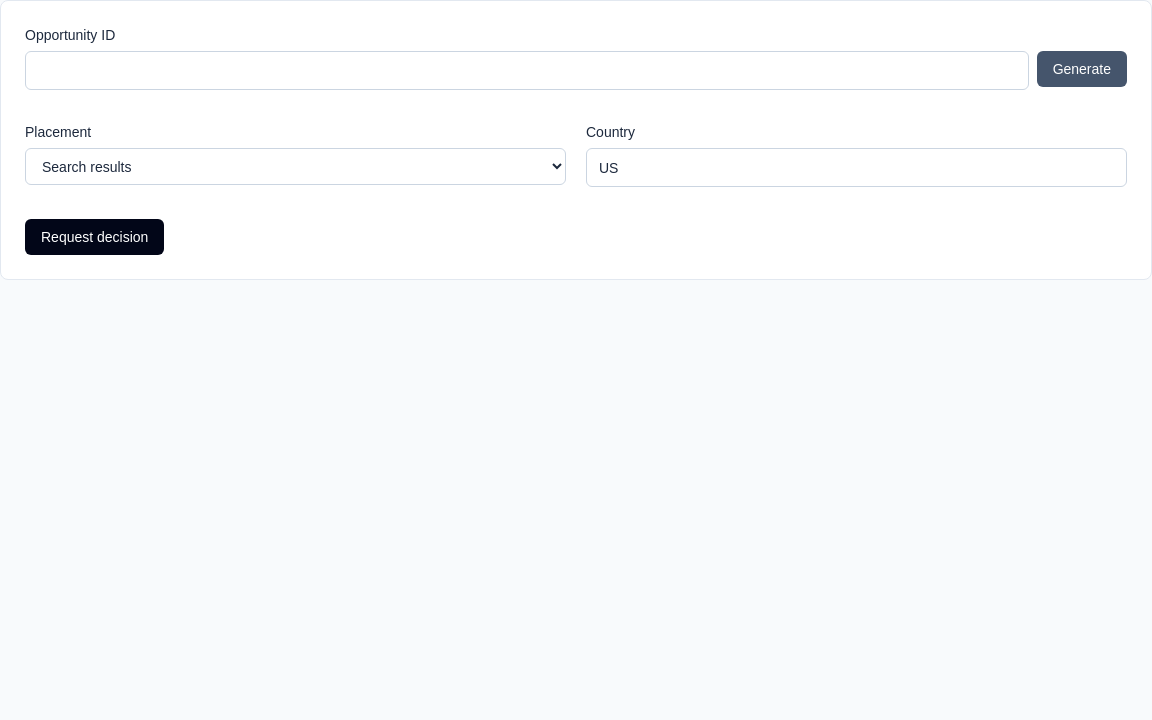
Test: DecisionLab › renders a fill and normalized values
Type "51000000-0000-4000-8000-000000000001" into the field labelled "Opportunity ID" at (527, 70), box x1=25 y1=51 x2=1029 y2=90
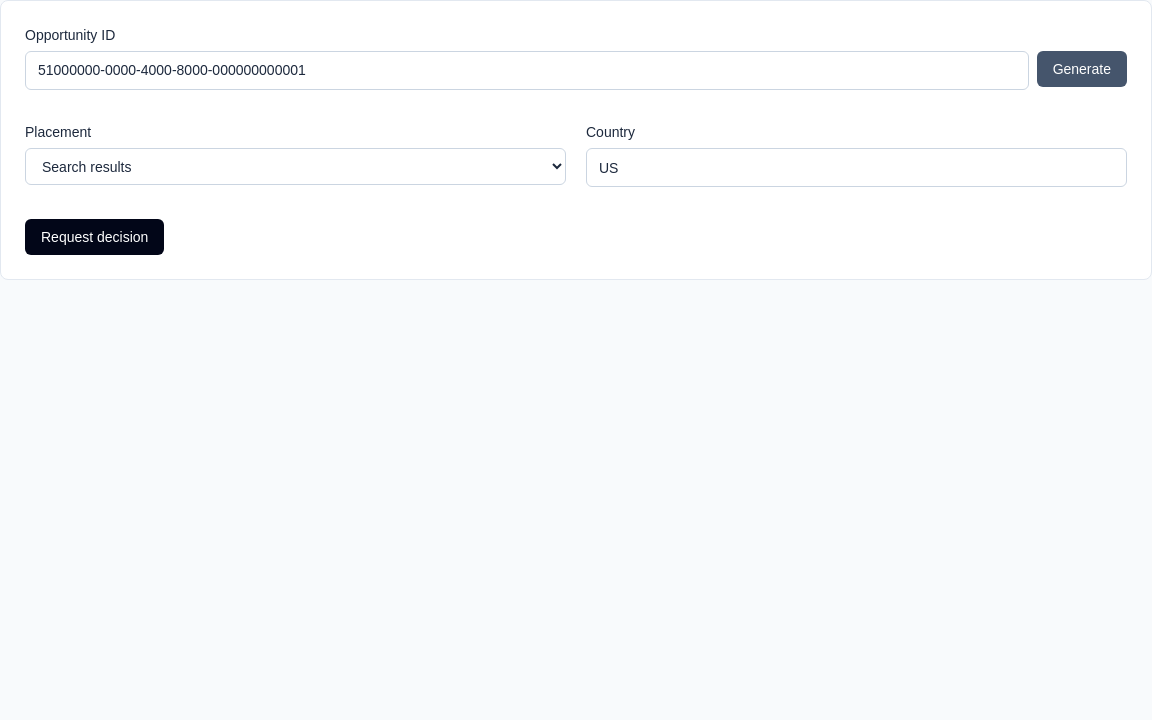
Replace the text in the field labelled "Country" with "us" at (856, 168), box x1=586 y1=148 x2=1127 y2=187
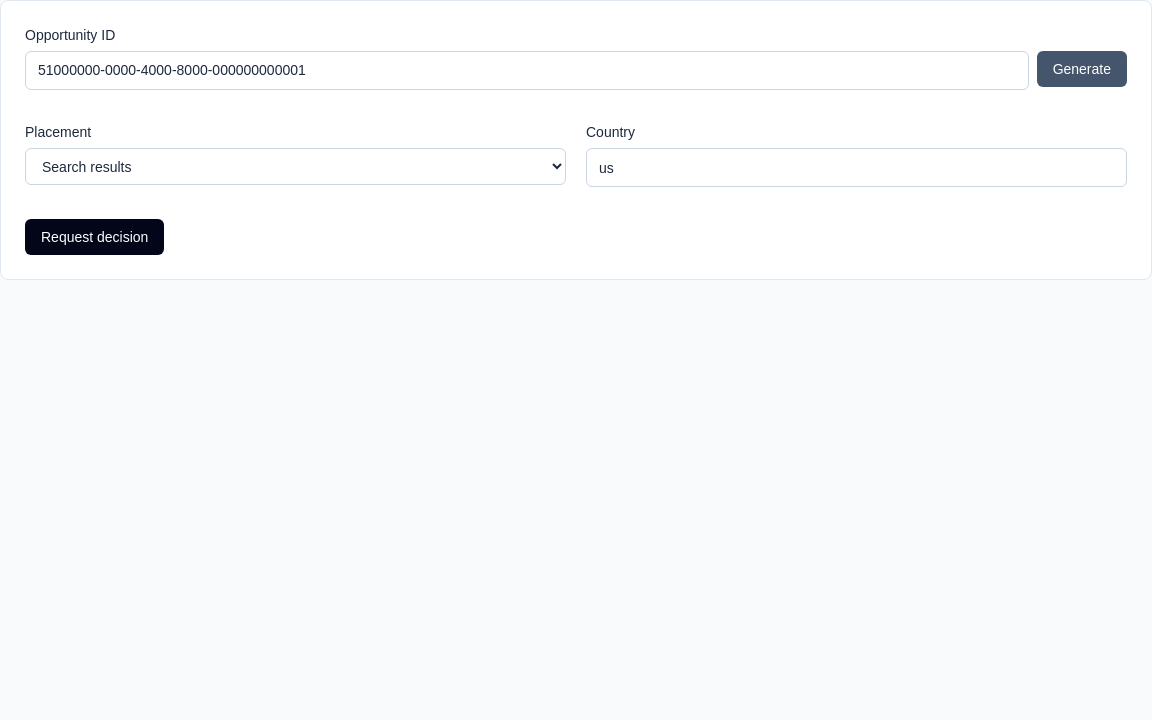
Click the button "Request decision" at (95, 237), box x1=25 y1=219 x2=164 y2=255
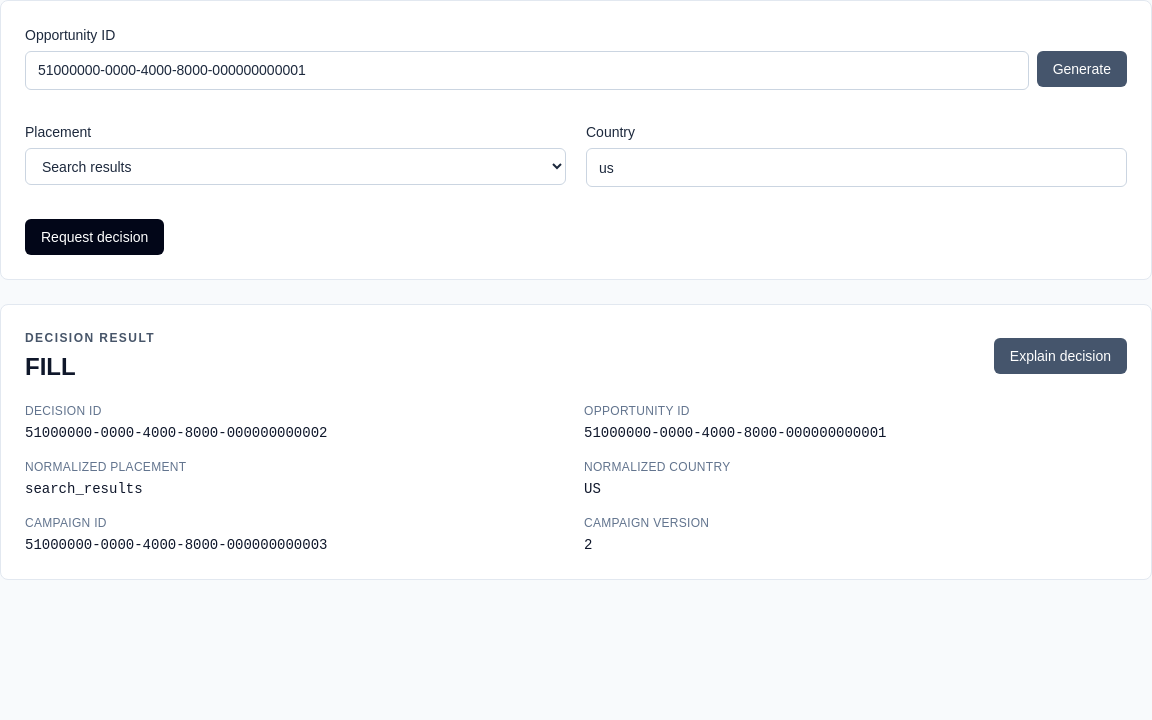
Now the heading "FILL" is shown, box x1=25 y1=353 x2=76 y2=380
Now the text "51000000-0000-4000-8000-000000000003" is shown, box x1=25 y1=537 x2=328 y2=553
Now the text "US" is shown, box x1=584 y1=481 x2=601 y2=497
